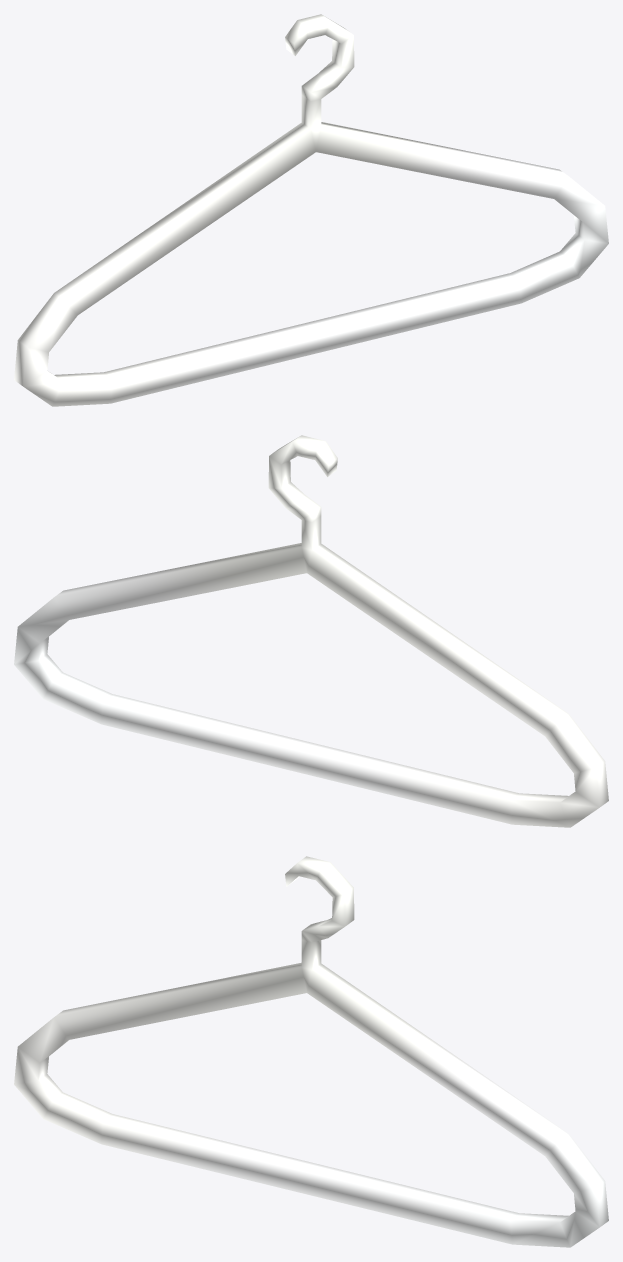
Rendered from ClothingHangerWhite.glb.
3 renders of one model, top to bottom at view 1: azimuth 30°, elevation 25°; view 2: azimuth 150°, elevation 25°; view 3: azimuth 330°, elevation 25°, orthographic.
Visible parts, largest first — view 1: ClothingHangerWhite; view 2: ClothingHangerWhite; view 3: ClothingHangerWhite.
Part boxes in pixels (left/top/right/bottom): ClothingHangerWhite: left=14, top=14, right=608, bottom=406; ClothingHangerWhite: left=14, top=435, right=608, bottom=827; ClothingHangerWhite: left=14, top=856, right=608, bottom=1247.
Size of the model in its own units: 0.6035 by 0.324 by 0.0164.
1 material, 1 textured.
